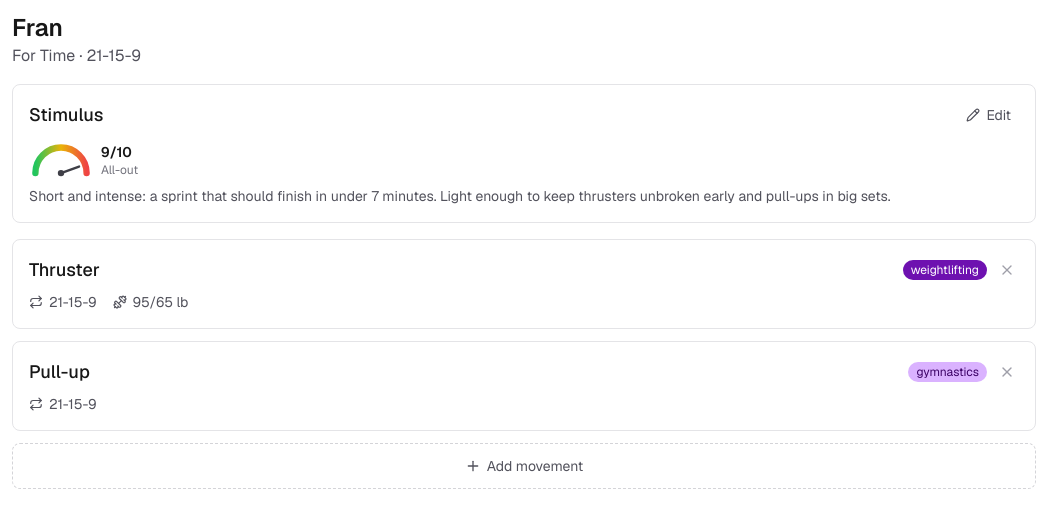
Scenario: WorkoutPart › removes a movement
Click the button named "Remove Thruster" at (1007, 270), box [995,258,1019,282]
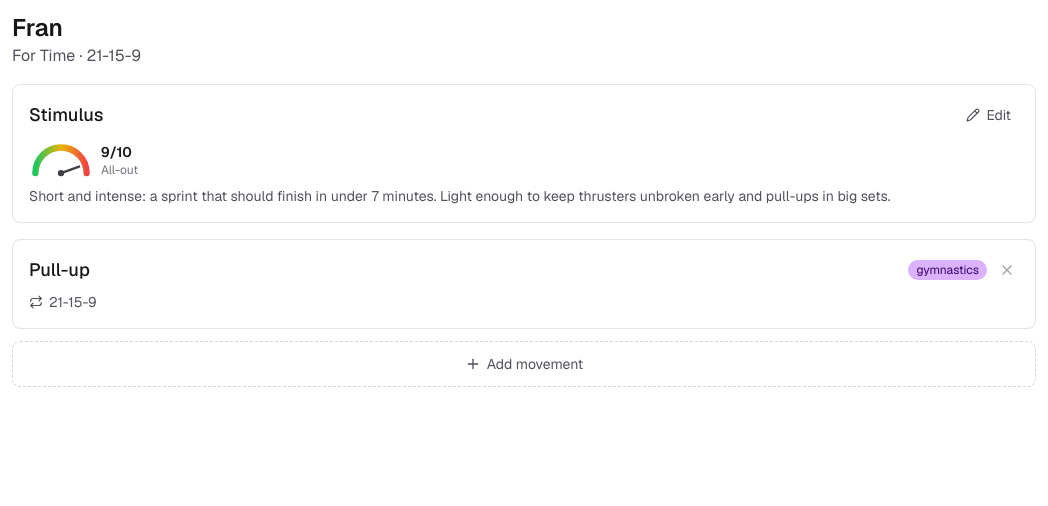
Expected: the number of list items is 1, [12,239,1036,329]
